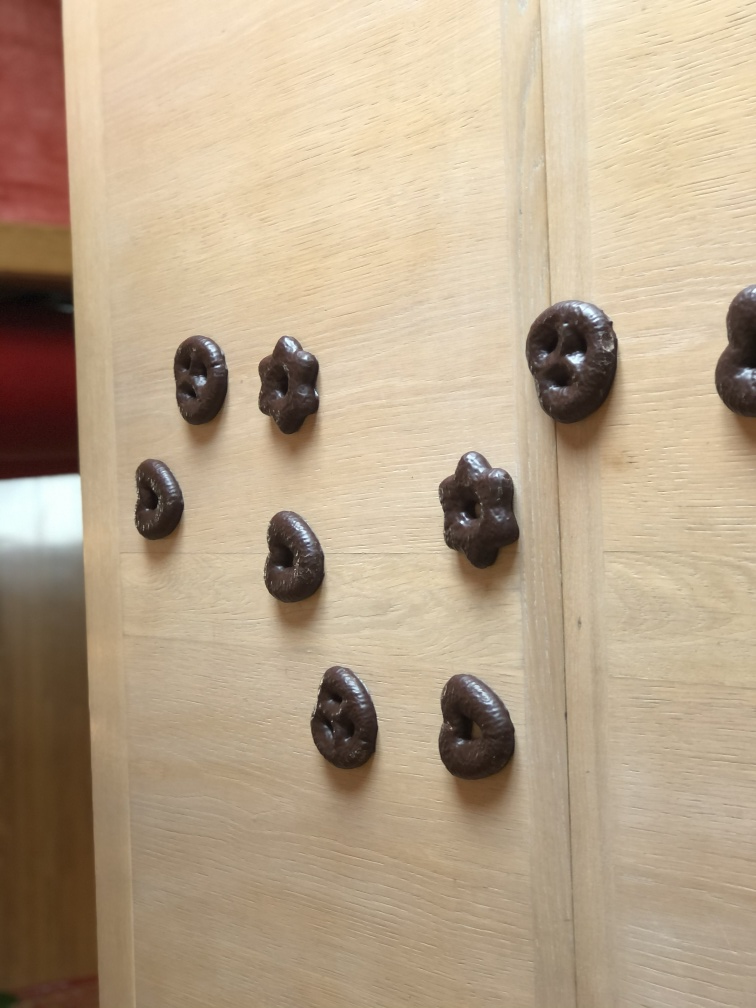bretzel: (526, 301, 612, 419), (312, 663, 375, 769), (173, 335, 232, 422)
heart: (437, 672, 516, 780), (261, 510, 323, 601), (133, 458, 186, 536)
star: (438, 452, 520, 575), (257, 334, 325, 433)
